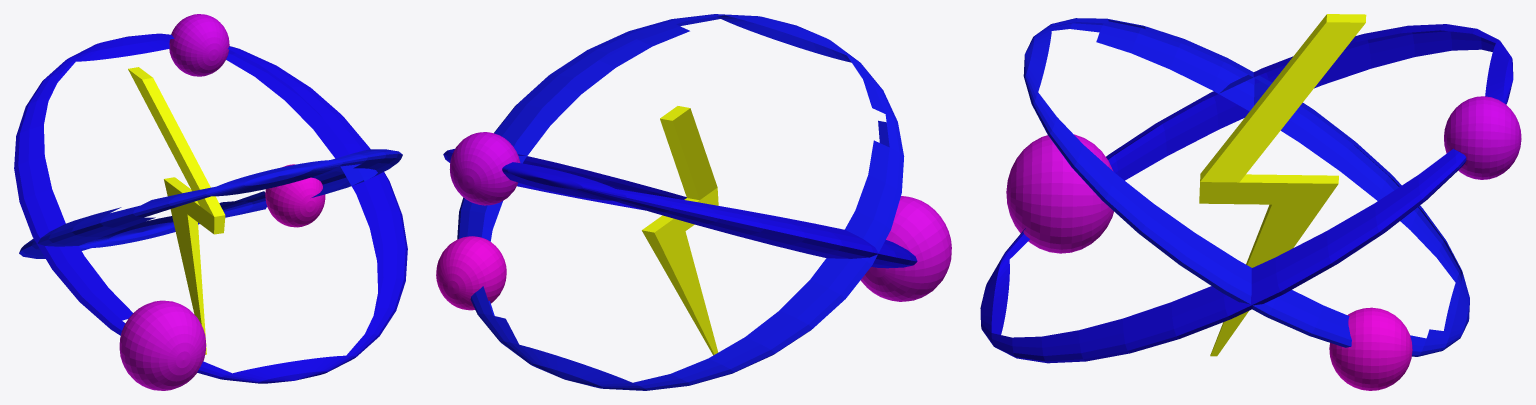
File: bOlt collectable 2.fbx
3 renders of one model, left to right at view 1: azimuth 30°, elevation 25°; view 2: azimuth 150°, elevation 25°; view 3: azimuth 270°, elevation 25°, orthographic. The views are drawn at different scales.
Parts seen in each view (by area): view 1: Sphere, Sphere.001, Sphere.002, Trueno, Sphere.003, Sphere.004; view 2: Sphere.001, Sphere, Trueno, Sphere.002, Sphere.003, Sphere.004; view 3: Sphere, Sphere.001, Trueno, Sphere.002, Sphere.004, Sphere.003.
Part boxes in pixels (x1=…): Sphere: x1=14, y1=33, x2=407, y2=383; Sphere.001: x1=19, y1=149, x2=402, y2=258; Sphere.002: x1=119, y1=300, x2=206, y2=390; Trueno: x1=128, y1=67, x2=225, y2=354; Sphere.003: x1=169, y1=14, x2=229, y2=76; Sphere.004: x1=265, y1=164, x2=325, y2=227; Sphere.001: x1=457, y1=14, x2=904, y2=390; Sphere: x1=443, y1=149, x2=917, y2=268; Trueno: x1=642, y1=106, x2=718, y2=355; Sphere.002: x1=860, y1=196, x2=951, y2=301; Sphere.003: x1=449, y1=132, x2=520, y2=205; Sphere.004: x1=436, y1=236, x2=506, y2=310; Sphere: x1=980, y1=24, x2=1513, y2=363; Sphere.001: x1=1023, y1=18, x2=1469, y2=356; Trueno: x1=1199, y1=14, x2=1366, y2=356; Sphere.002: x1=1006, y1=134, x2=1113, y2=253; Sphere.004: x1=1329, y1=307, x2=1412, y2=390; Sphere.003: x1=1444, y1=96, x2=1521, y2=179.
Size of the model in its own units: 250 by 173 by 257.
